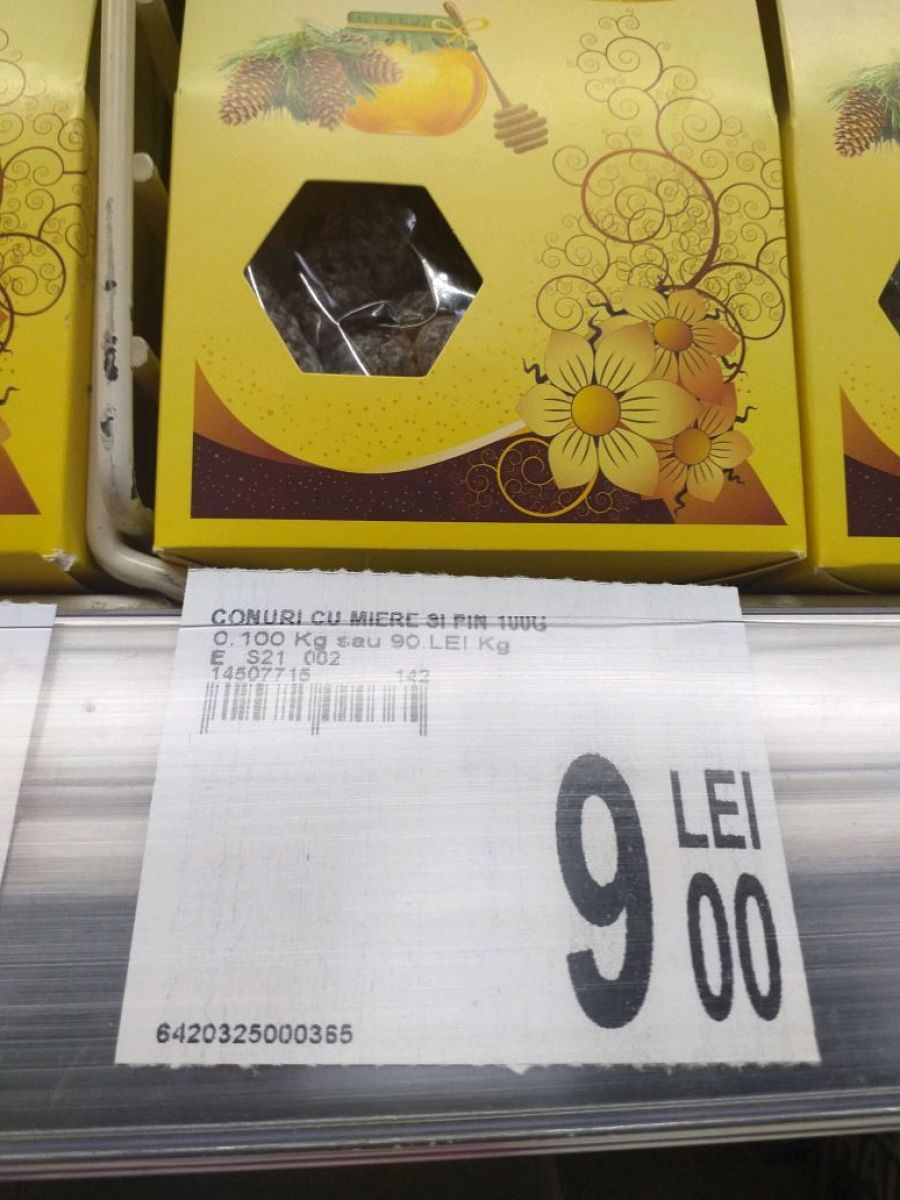bardcode: (152, 1015, 356, 1053)
list: (113, 560, 828, 1082)
name: (205, 603, 560, 639)
price: (537, 743, 788, 1046)
